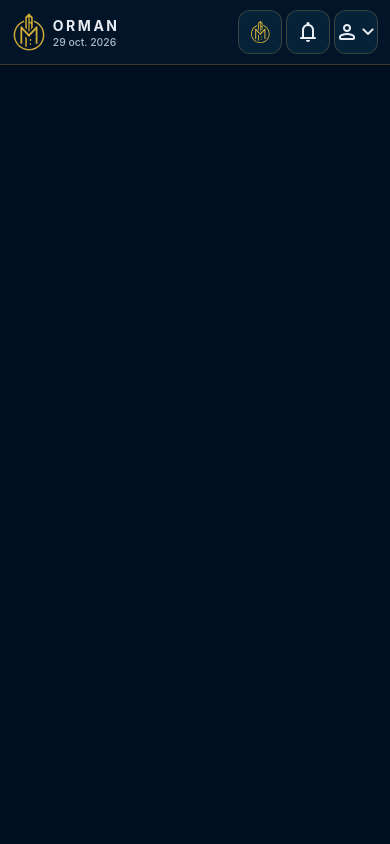
Test case: PrivateTopbarComponent › should expose the same role selector inside the profile popover
Step 1. Click the button named "Abrir perfil" → [356, 32], box [334,10,378,54]
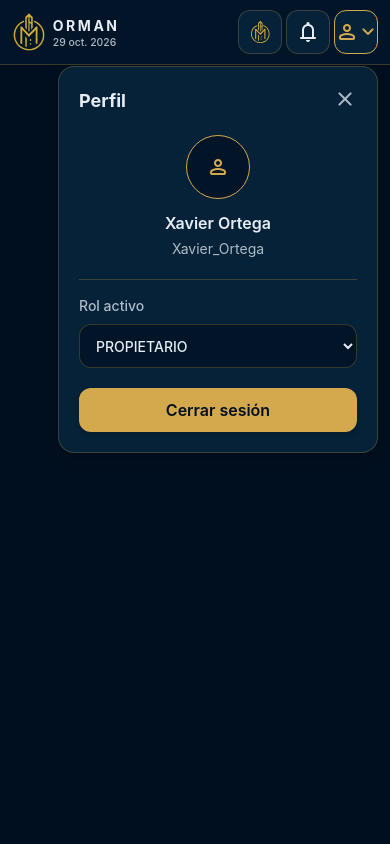
Expected: the dropdown shows "PROPIETARIO"
Step 2. Select "ADMINISTRADOR" in the dropdown → [218, 346], box [79,324,357,368]
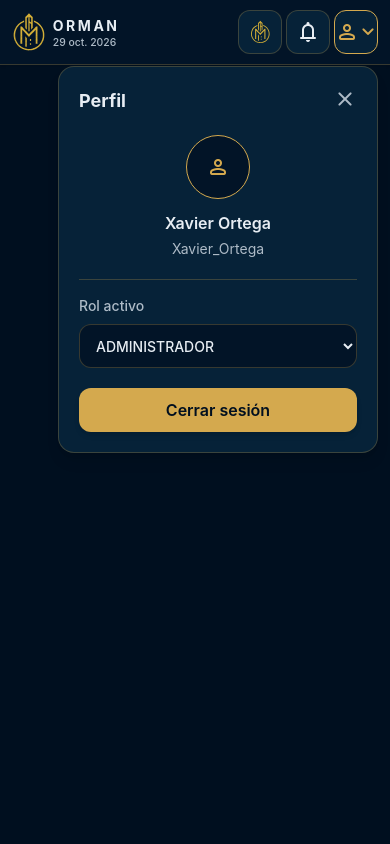
Step 3. Click the button named "Abrir perfil" → [356, 32], box [334,10,378,54]
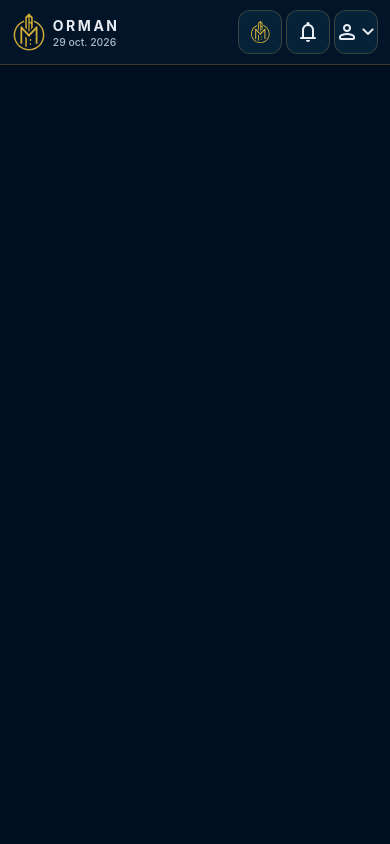
Step 4. Click the button named "Abrir perfil" → [356, 32], box [334,10,378,54]
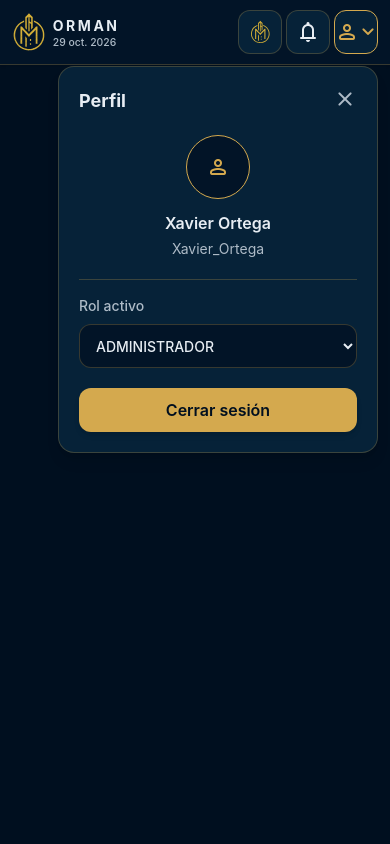
Expected: the dropdown shows "ADMINISTRADOR", [79,324,357,368]
